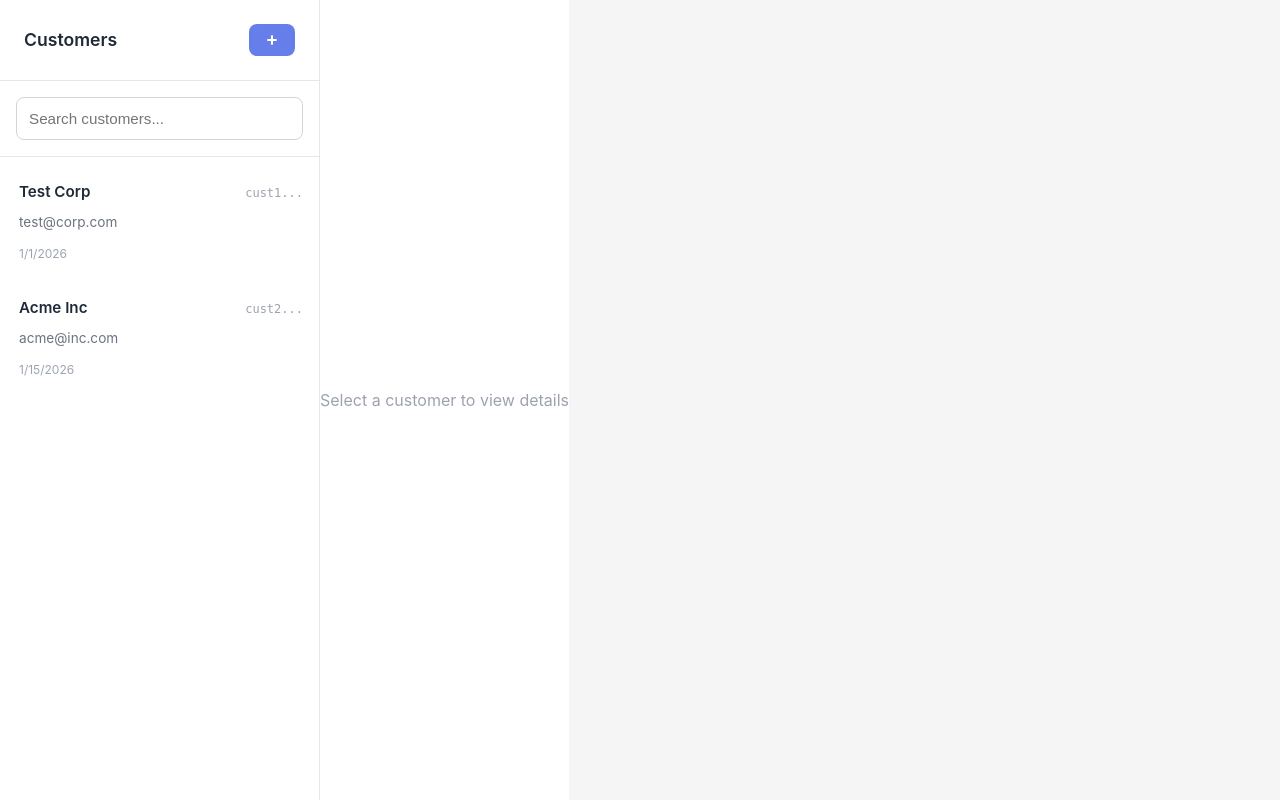
Test case: CustomersPage › should display customer detail panel when selected
This screenshot has width=1280, height=800.
Click the heading "Test Corp": click(55, 192) 19,181 -> 90,204
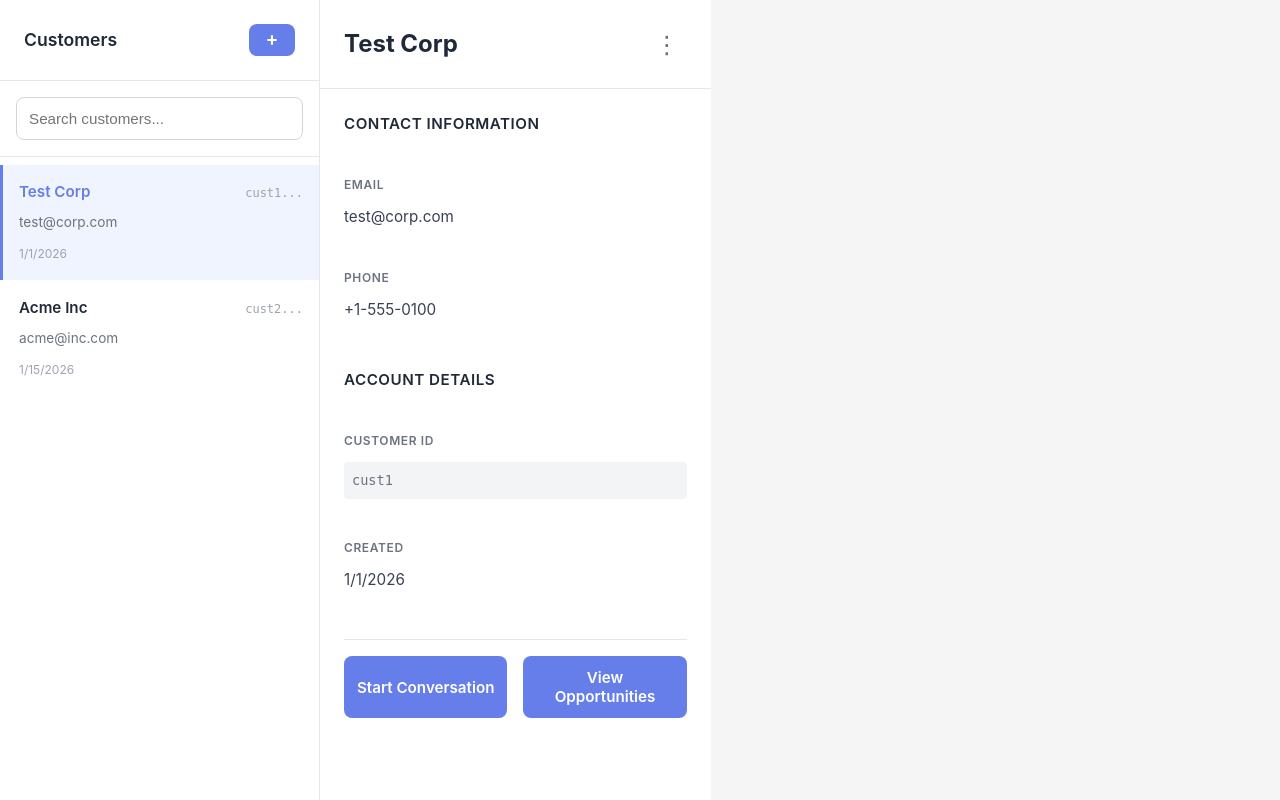
Expected: the heading "Contact Information" is shown, 344,114 -> 540,133
